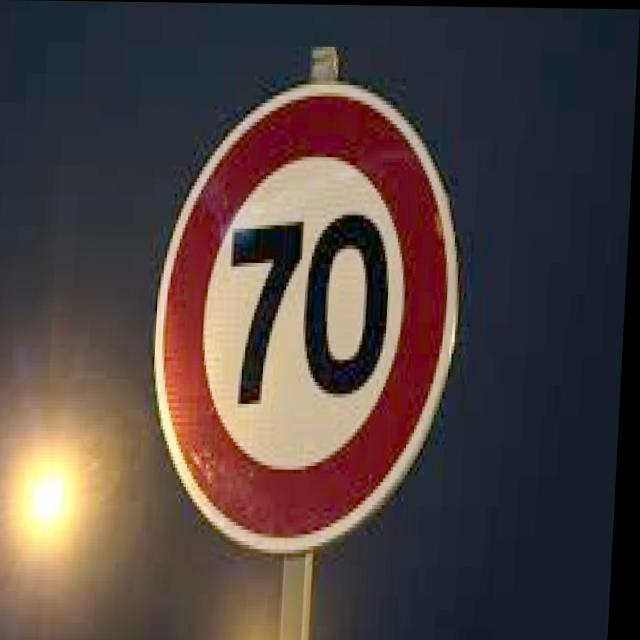SPEED_LIMIT_70: (147, 85, 468, 568)
